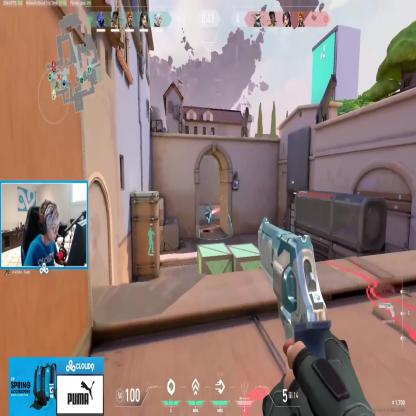enemy: (206, 207, 210, 224)
enemy_head: (207, 206, 209, 210)
